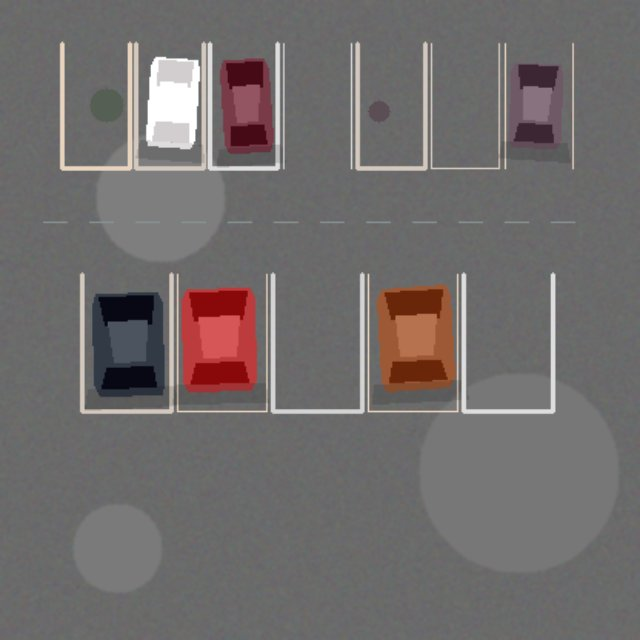space-empty: (272, 274, 362, 411), (463, 274, 552, 411), (283, 43, 351, 168), (357, 43, 425, 168), (62, 43, 129, 168), (431, 43, 498, 168)
space-occupied: (82, 274, 171, 411), (177, 274, 266, 411), (368, 274, 457, 411), (135, 43, 203, 168), (209, 43, 277, 168), (505, 43, 572, 168)
